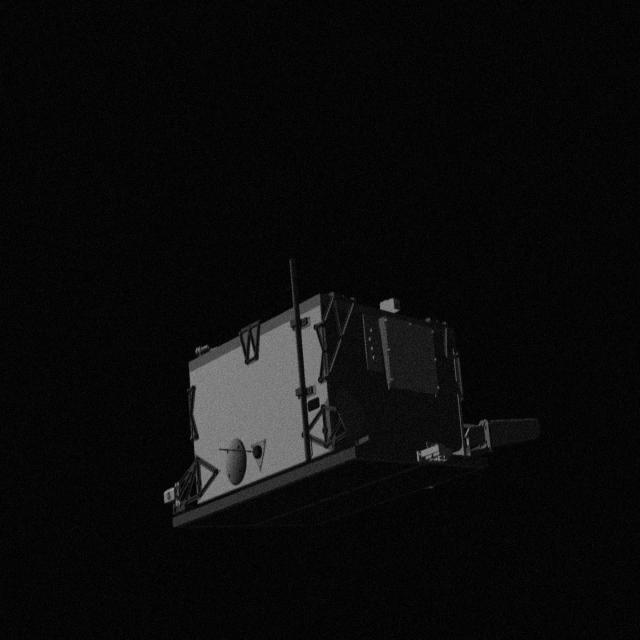medium_debris: (156, 284, 564, 536)
